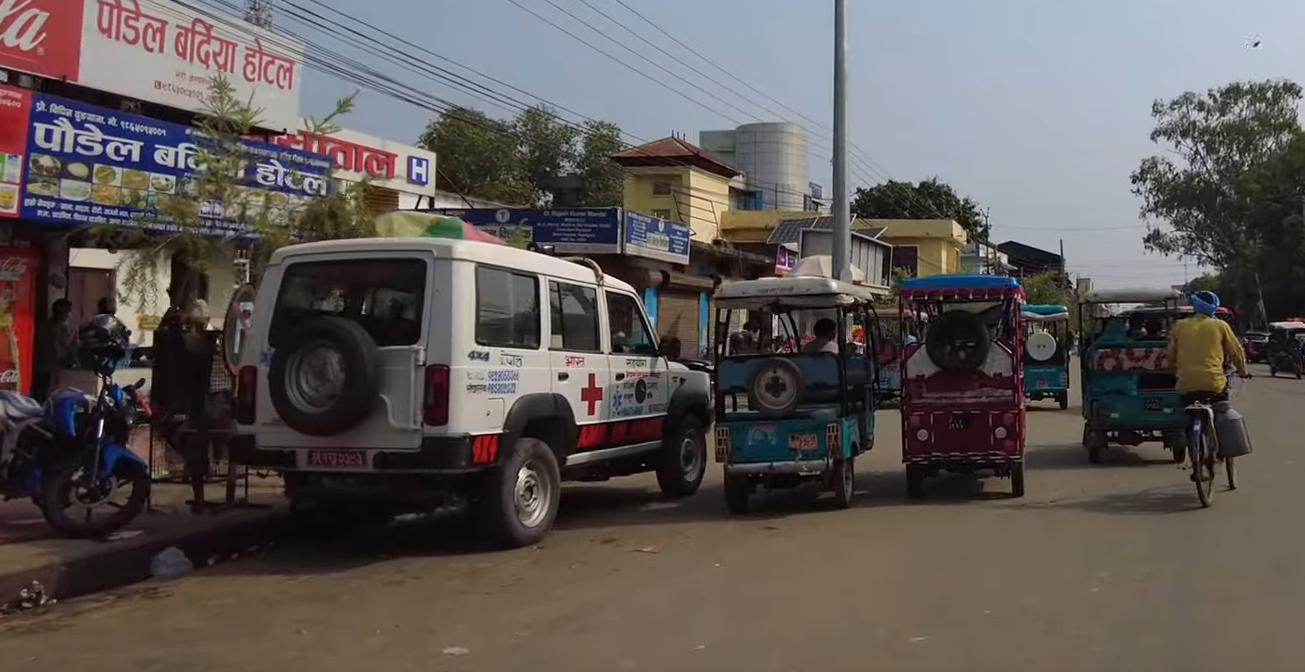ambulance: (227, 217, 718, 550)
bike: (0, 371, 158, 550)
e-rickshaw: (707, 267, 880, 522), (892, 267, 1030, 510), (1017, 299, 1073, 417), (1265, 317, 1305, 382)
